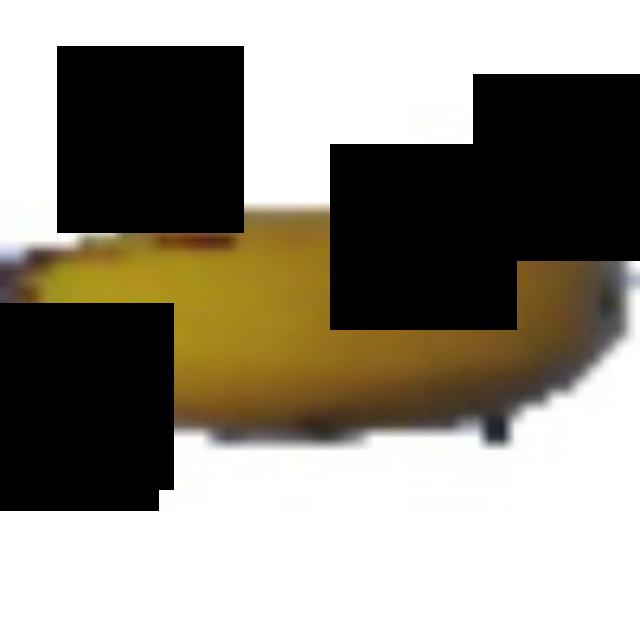banana: (0, 160, 634, 436)
